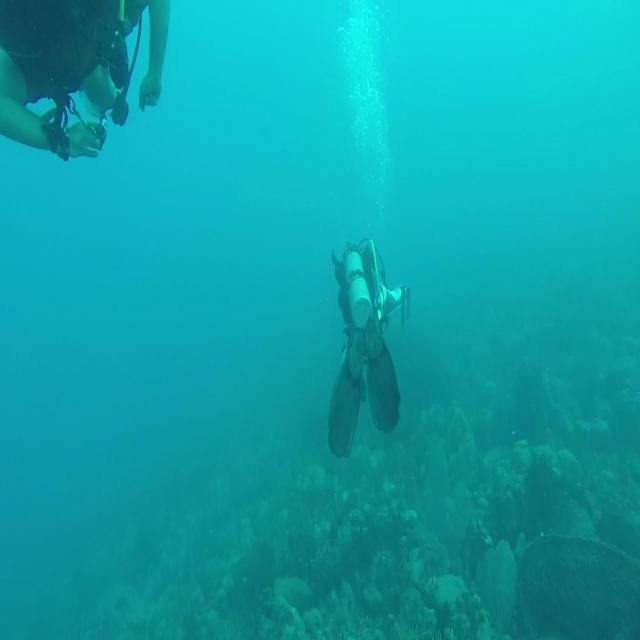human: (0, 0, 170, 162), (327, 236, 410, 459)
